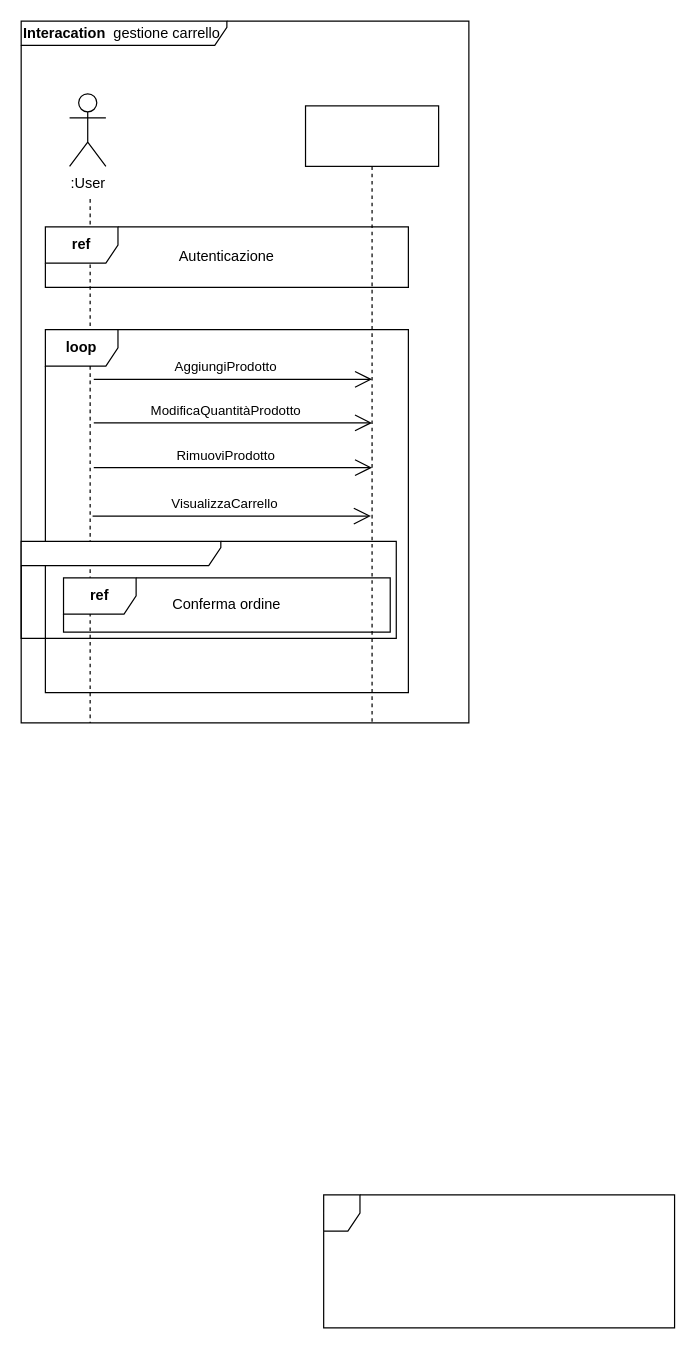
Some shapes in this 696 by 1349 pixel diagram are drawn without their labels. The shapes that lost their labels are listed below. From the top down, each one's box as (x1, y1, x2, y2) in pixels, then its label:
(304, 105, 439, 166): :Sistema
(20, 540, 396, 638): break[ConfermaOrdine]
(322, 1194, 675, 1328): alt
